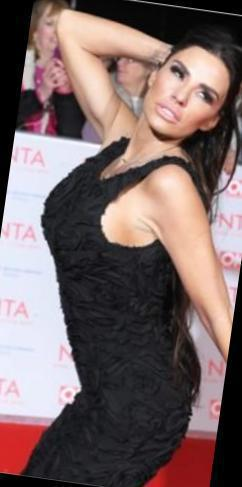Drunk: (150, 47, 226, 136)
